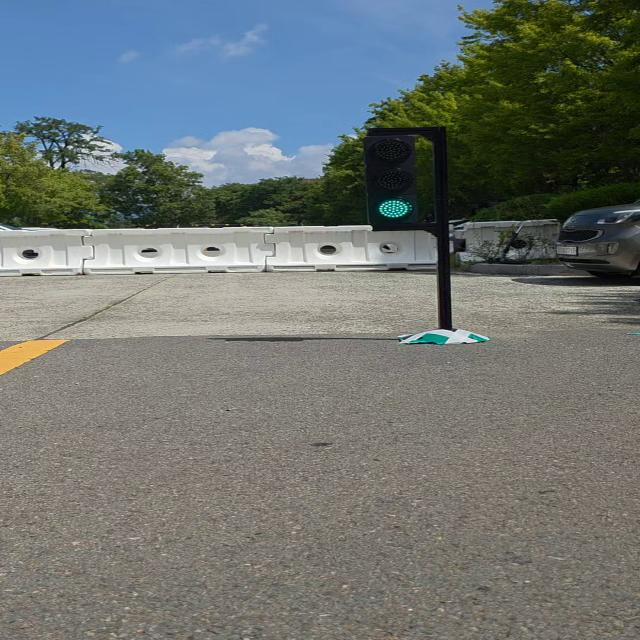green: (365, 133, 425, 229)
